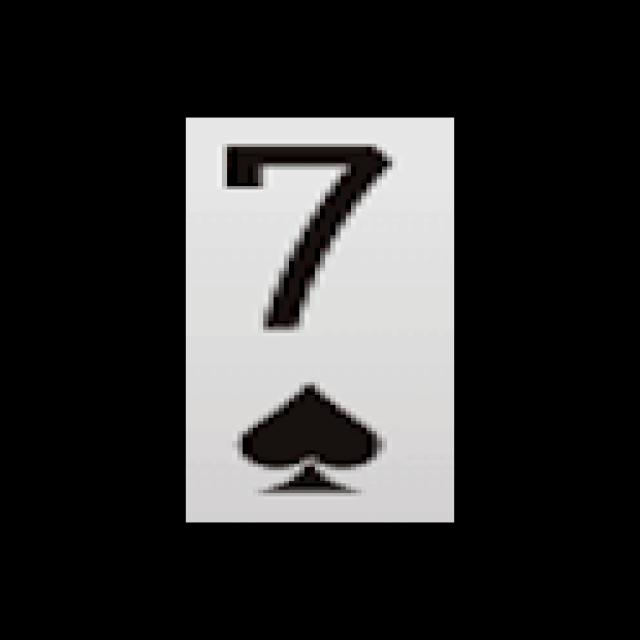7S: (198, 133, 416, 506)
